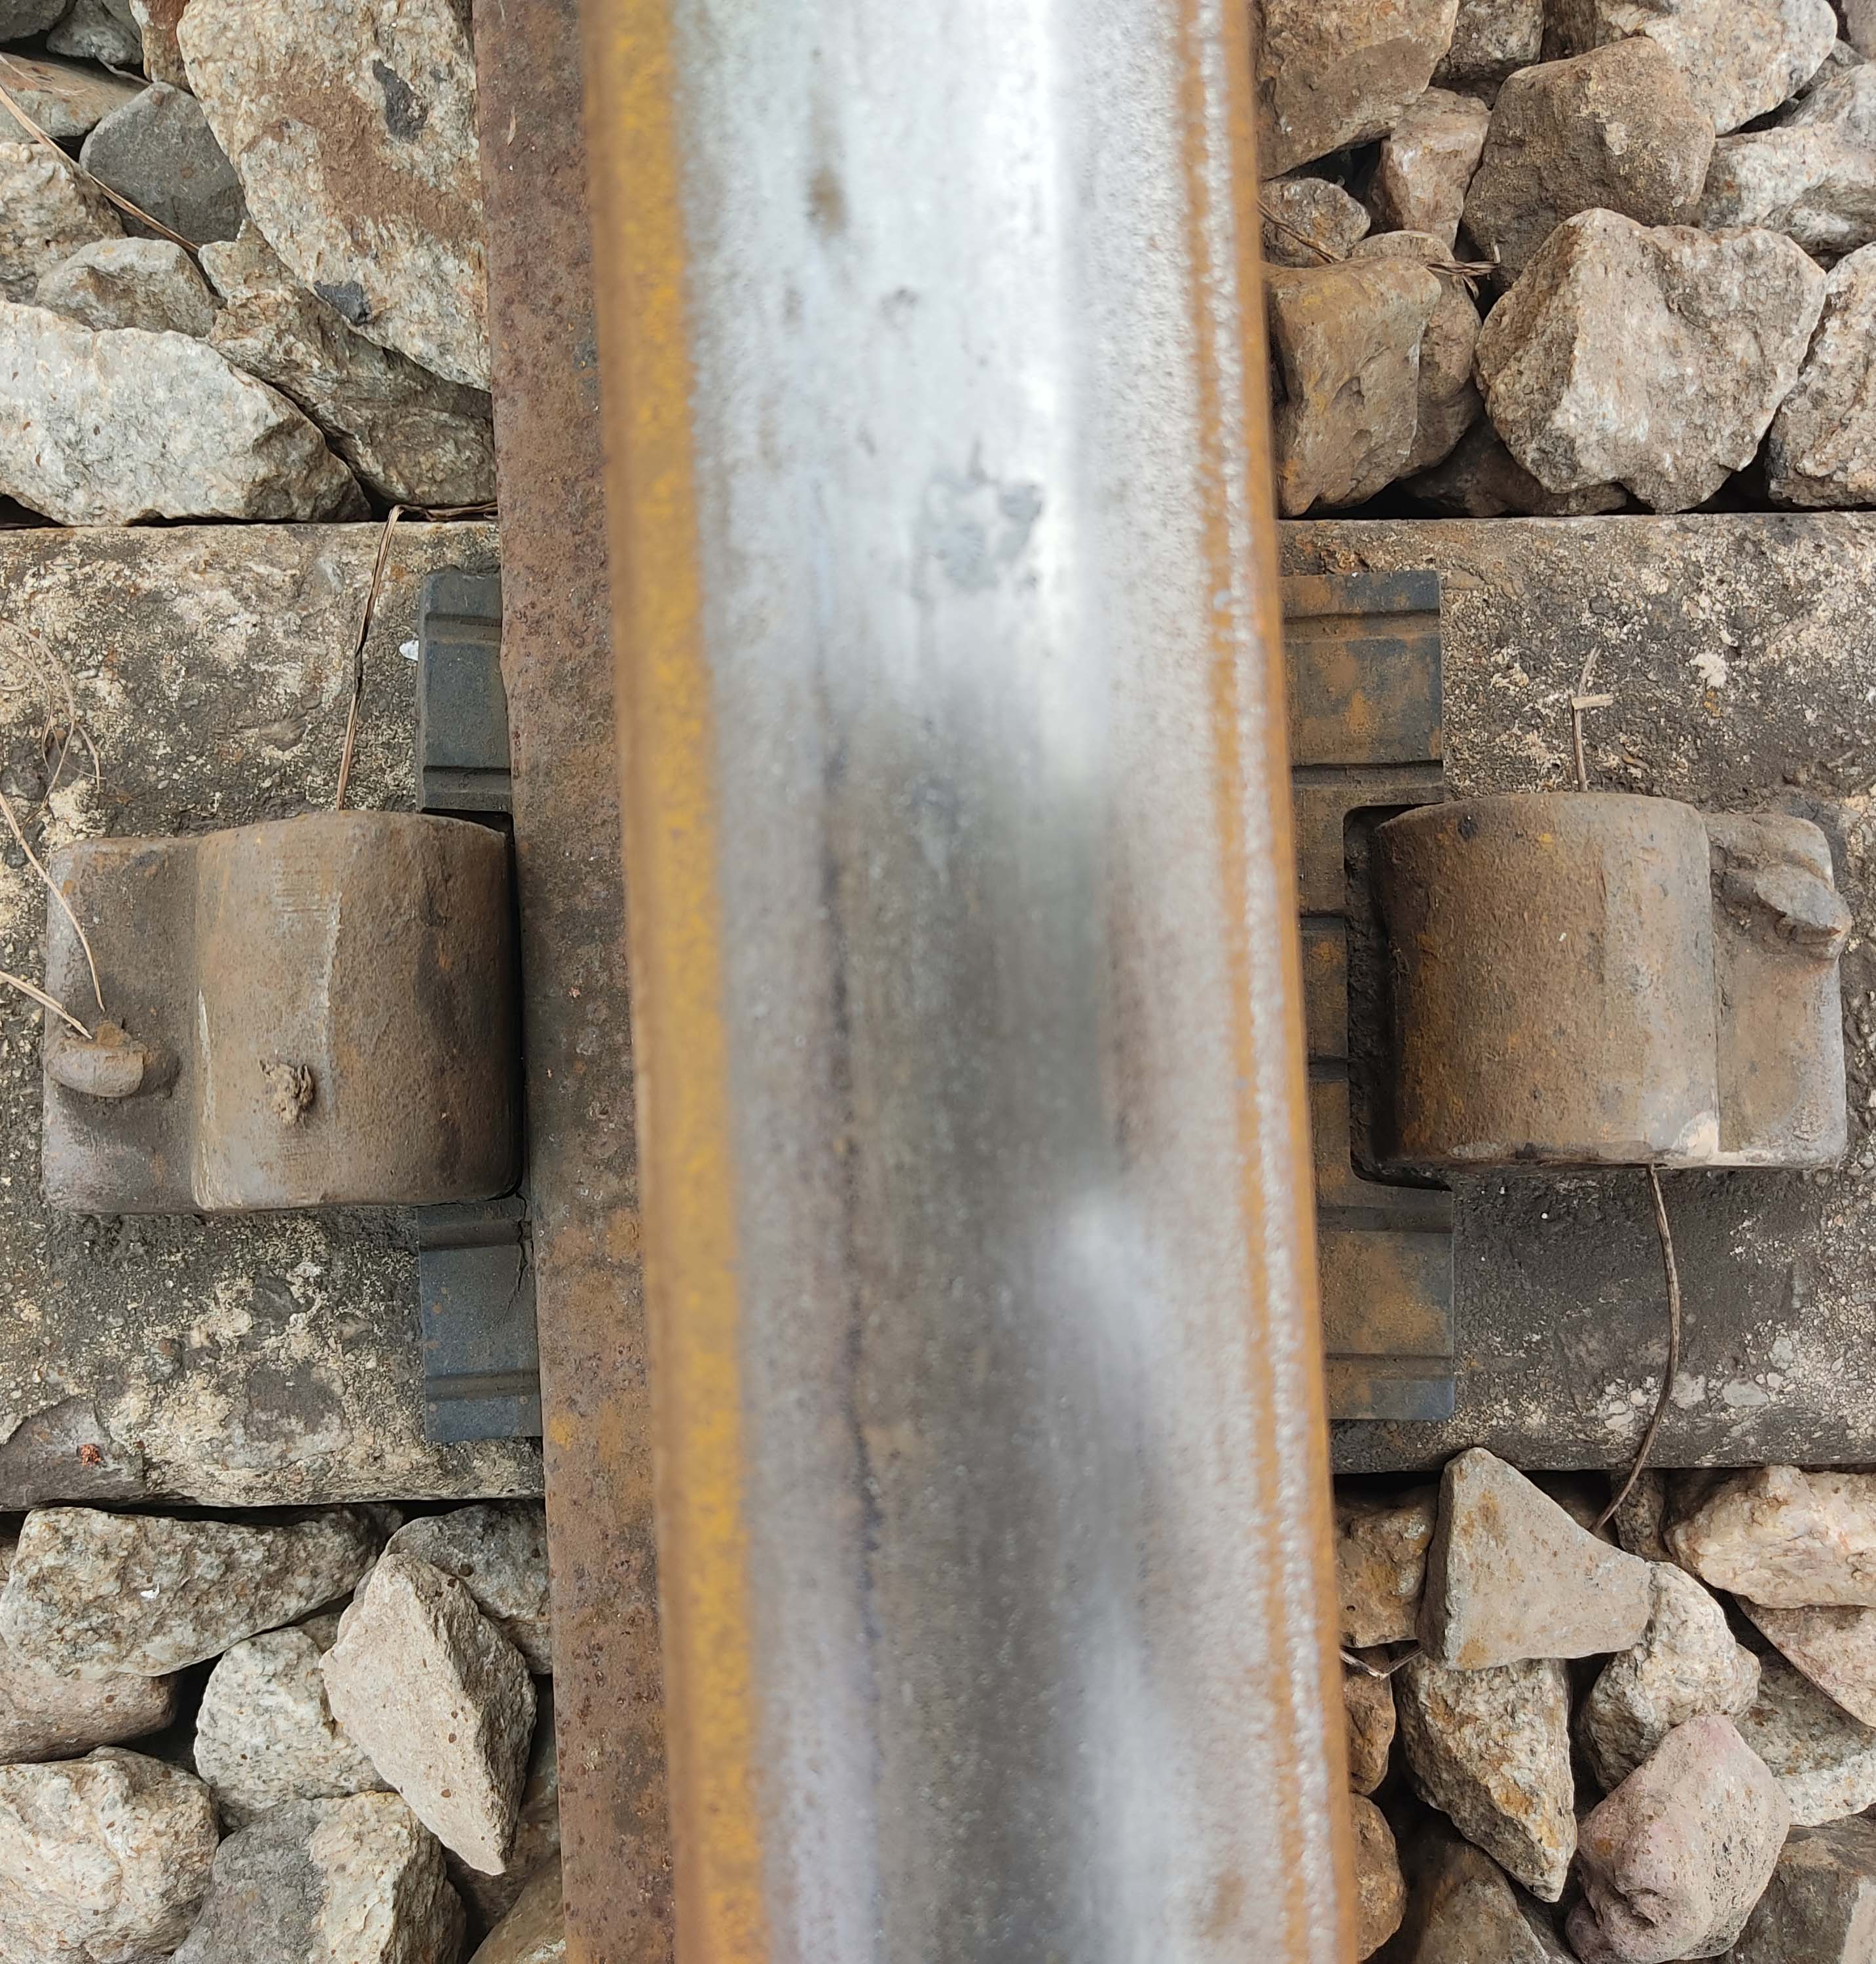error1: (23, 724, 537, 1361), (1339, 687, 1836, 1263)
